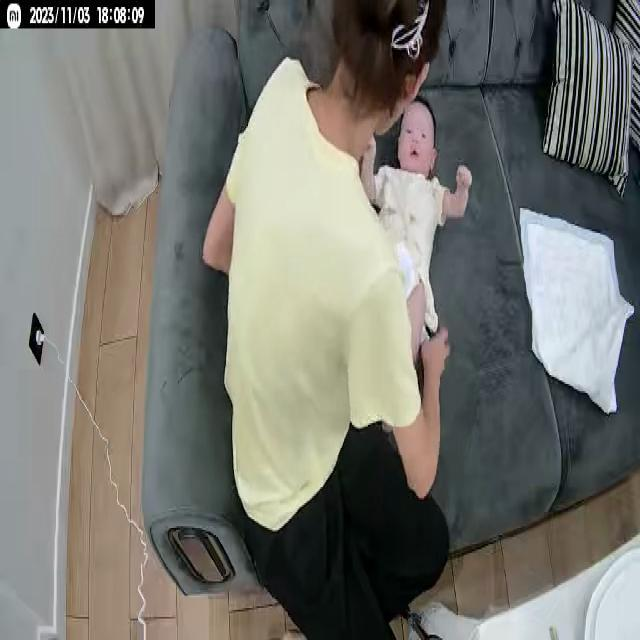baby: (354, 92, 472, 396)
